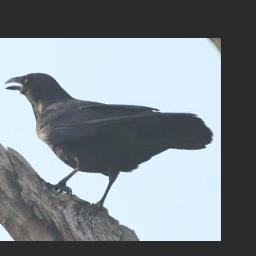Crow: (2, 71, 214, 213)
